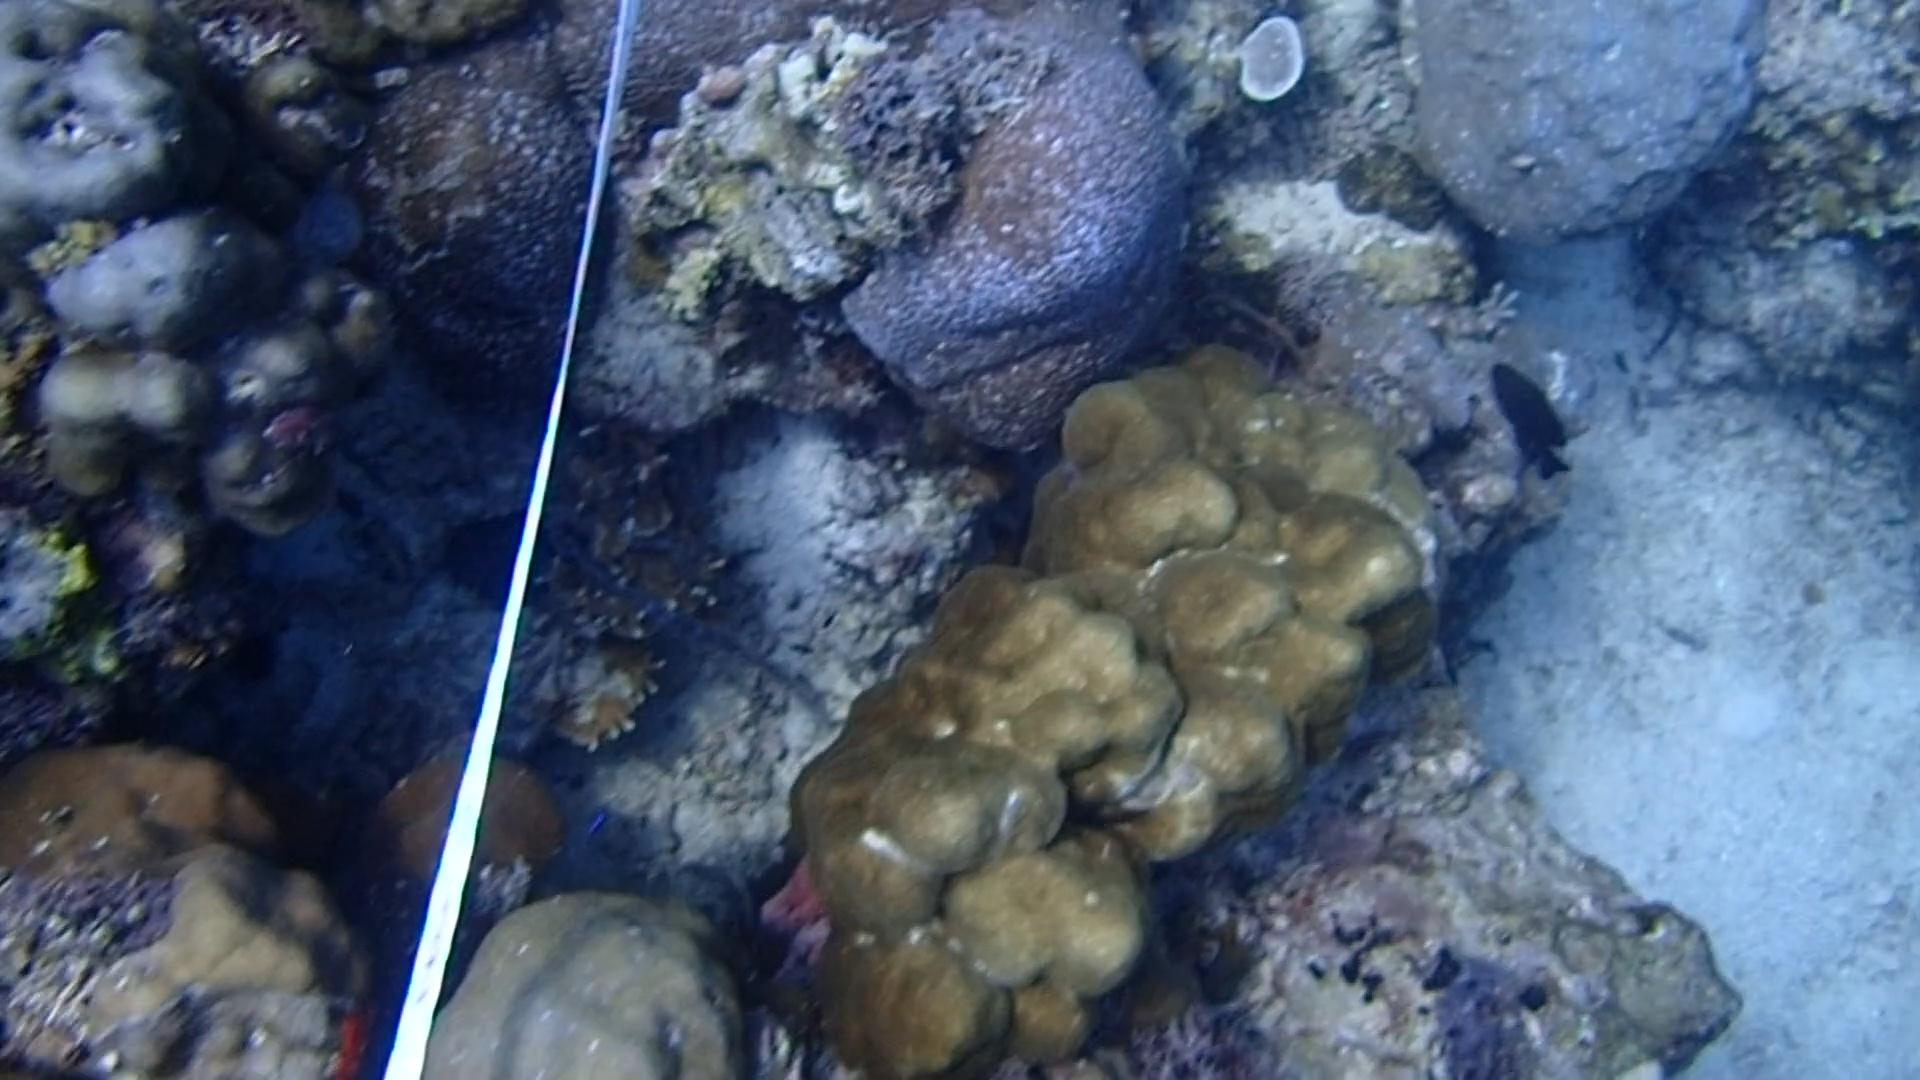Dark Fish: (1481, 353, 1582, 484)
